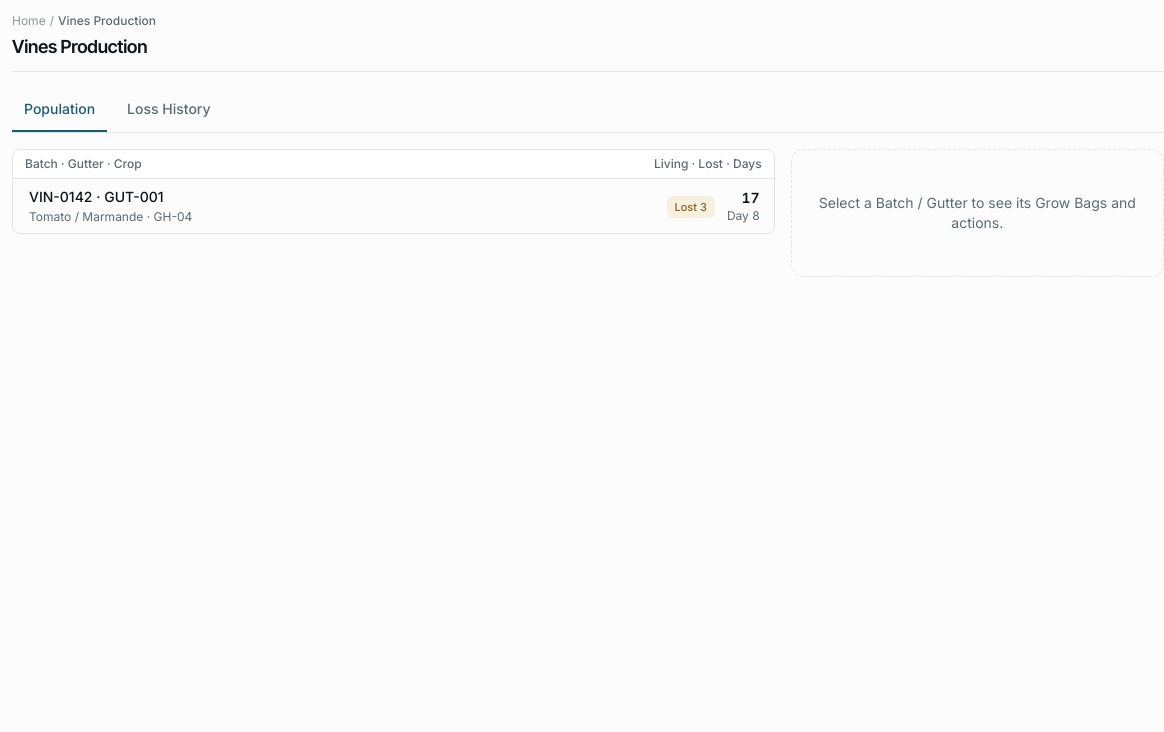
Test: VinesProductionPage › drill-down shows Grow Bag Living/Capacity/Free values, no raw UUIDs
The image size is (1164, 732).
Expected: the text "VIN-0142 · GUT-001" is shown, [29,186,164,206]
Click the button "VIN-0142 · GUT-001 Tomato / Marmande · GH-04".
click(96, 196)  # box [29,186,654,224]
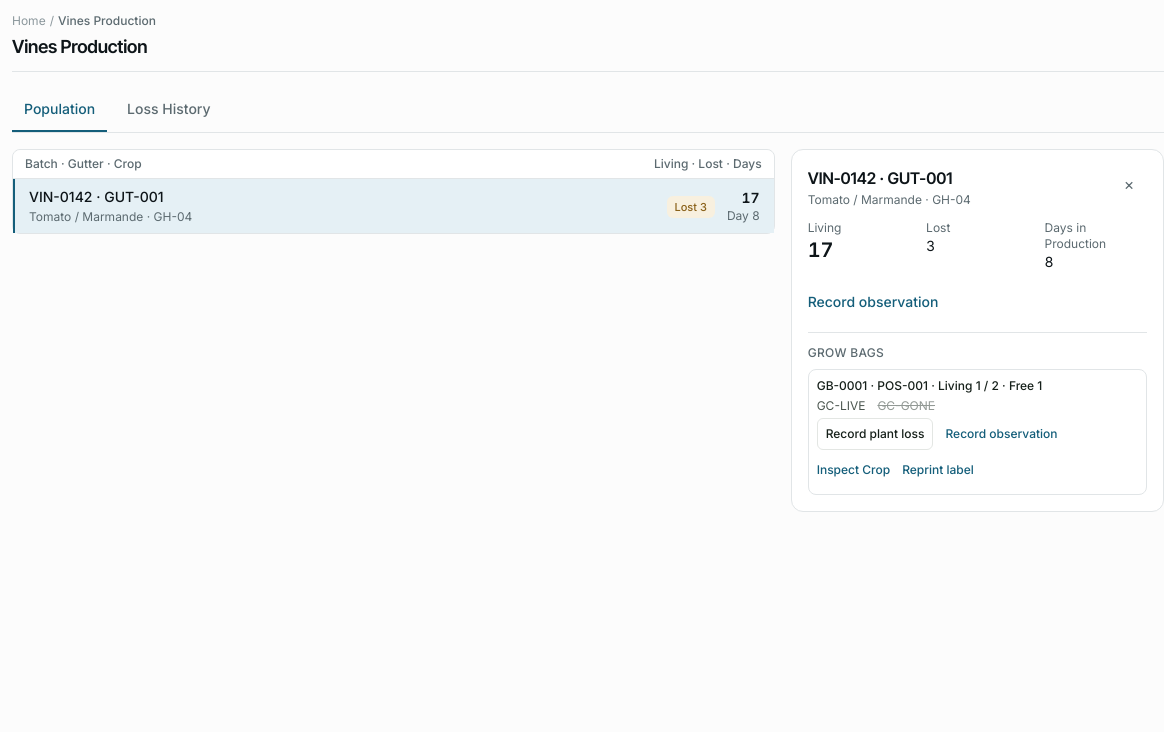
Expected: the text "GB-0001 · POS-001 · Living 1 / 2 · Free 1" is shown, [817,378,1042,392]
Expected: the text "GC-LIVE" is shown, [817,398,866,414]
Expected: the text "GC-GONE" is shown, [877,398,935,414]
